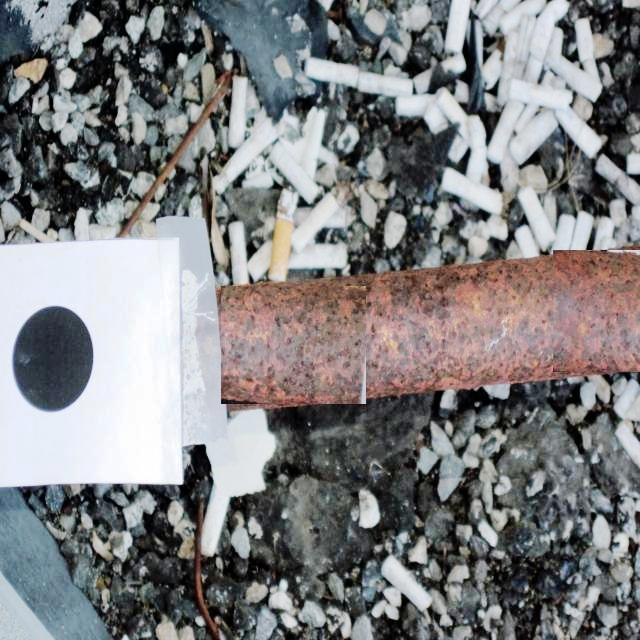Corrosion: (367, 252, 640, 398), (219, 279, 365, 408)
